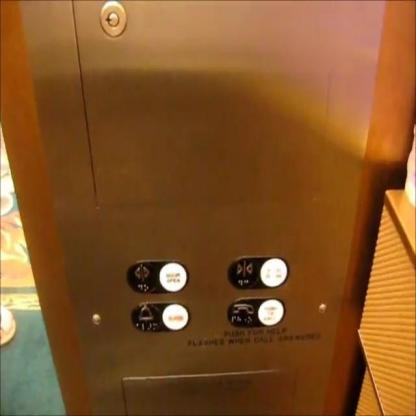alarm: (130, 301, 191, 332)
call: (226, 294, 286, 327)
close: (227, 254, 290, 289)
keyhole: (98, 0, 128, 38)
open: (126, 259, 189, 295)
